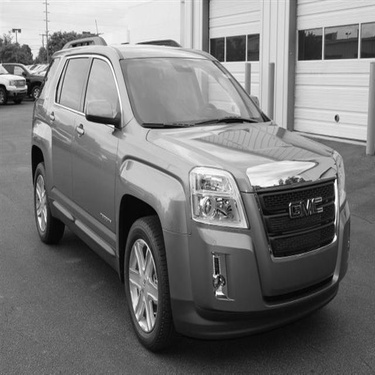car: (18, 28, 356, 356), (1, 58, 48, 101), (1, 63, 28, 102)
